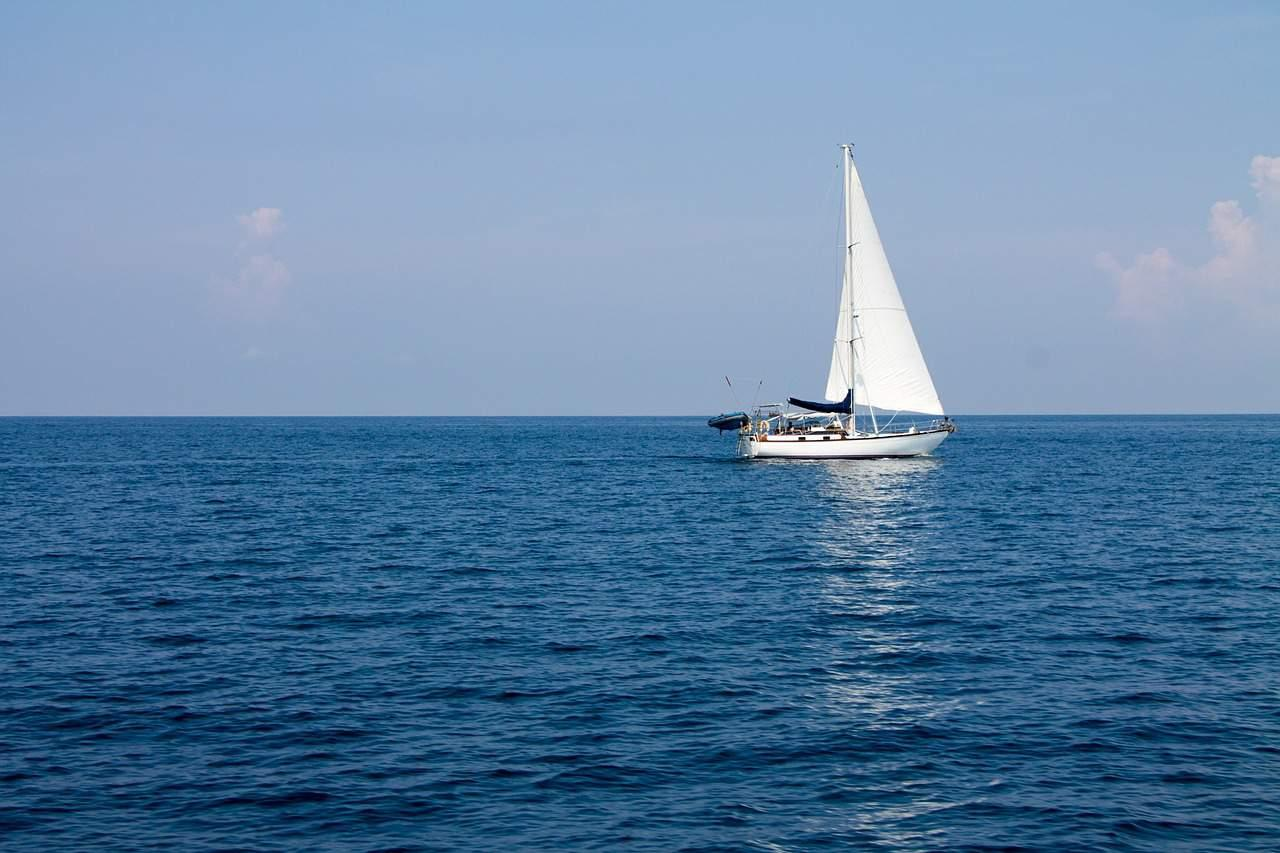Ship: (705, 143, 953, 463)
